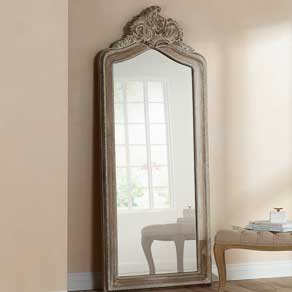Nonrec_Glass: (90, 16, 223, 287)
